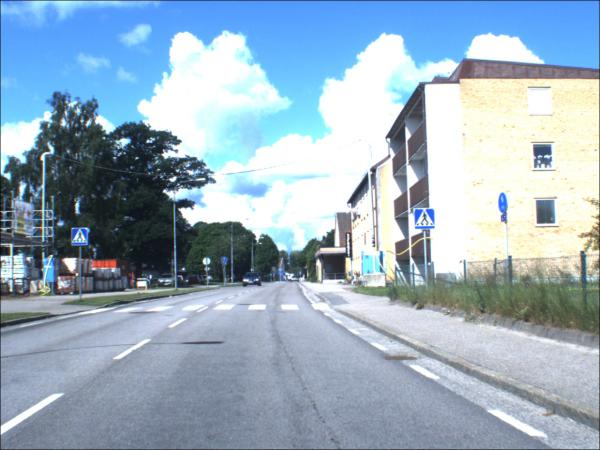PASS_RIGHT_SIDE: (280, 273, 285, 277)
PEDESTRIAN_CROSSING: (415, 209, 437, 231), (73, 230, 91, 248), (280, 269, 284, 273)
